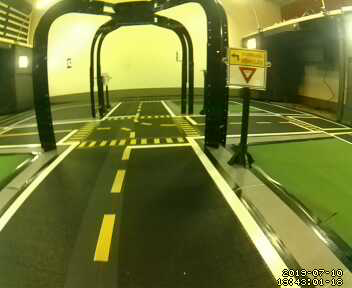Turn Yield: (229, 48, 266, 91)
